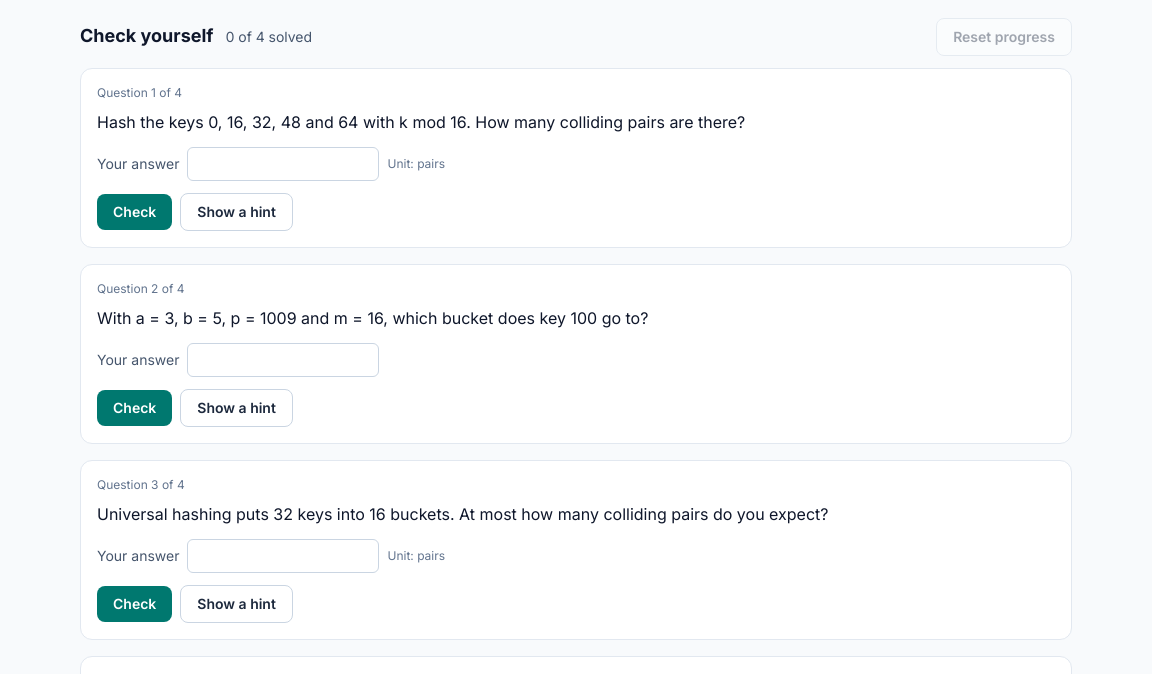
Test: designing hash functions lesson › checks a practice answer, wrong then right, with a hint
(page scrolled)
Type "5" into the field named "answer" at coordinates (284, 360), box [188, 343, 380, 377]
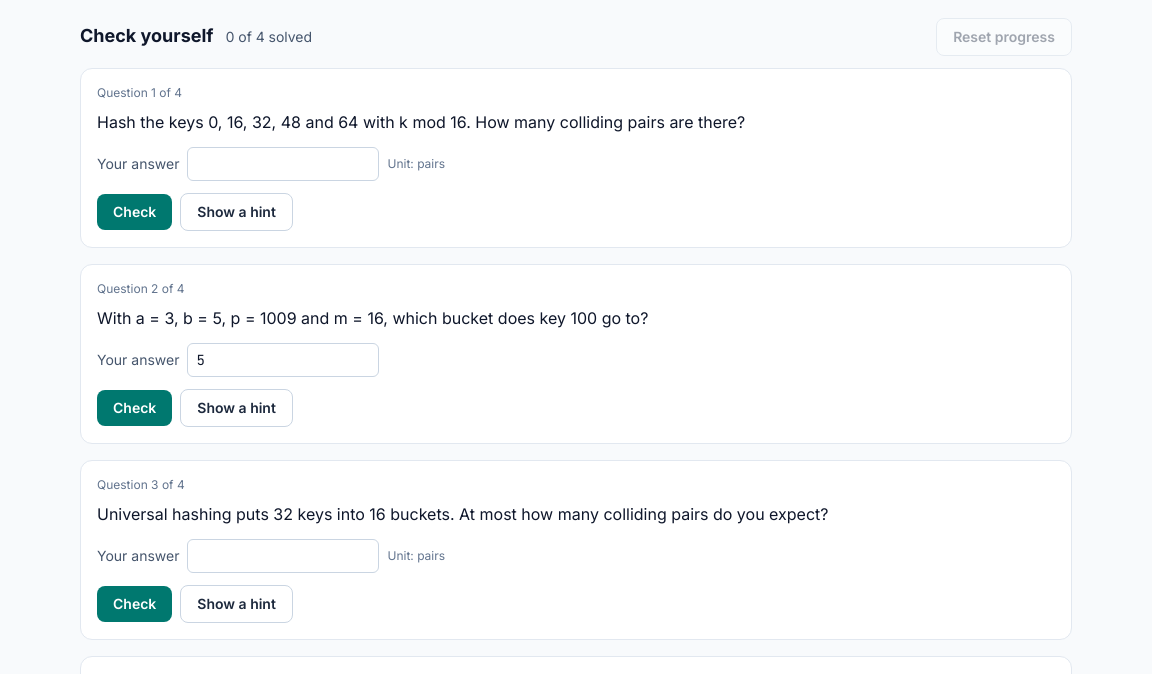
Submit the form "Your answer Check Show a hint", box [97, 343, 380, 427]
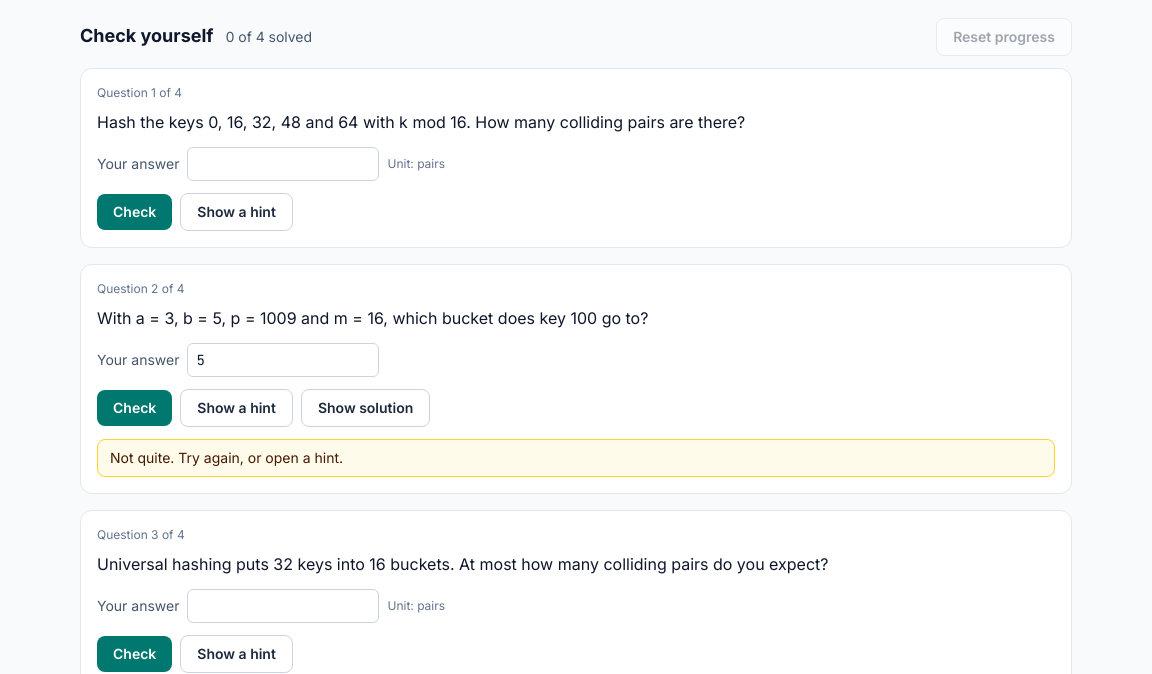
Now the list item that starts with "Question 2 of 4" shows "Not quite", box [110, 449, 343, 466]
Click the button "Show a hint" below "Question 2 of 4" at coordinates (237, 408), box [180, 389, 293, 427]
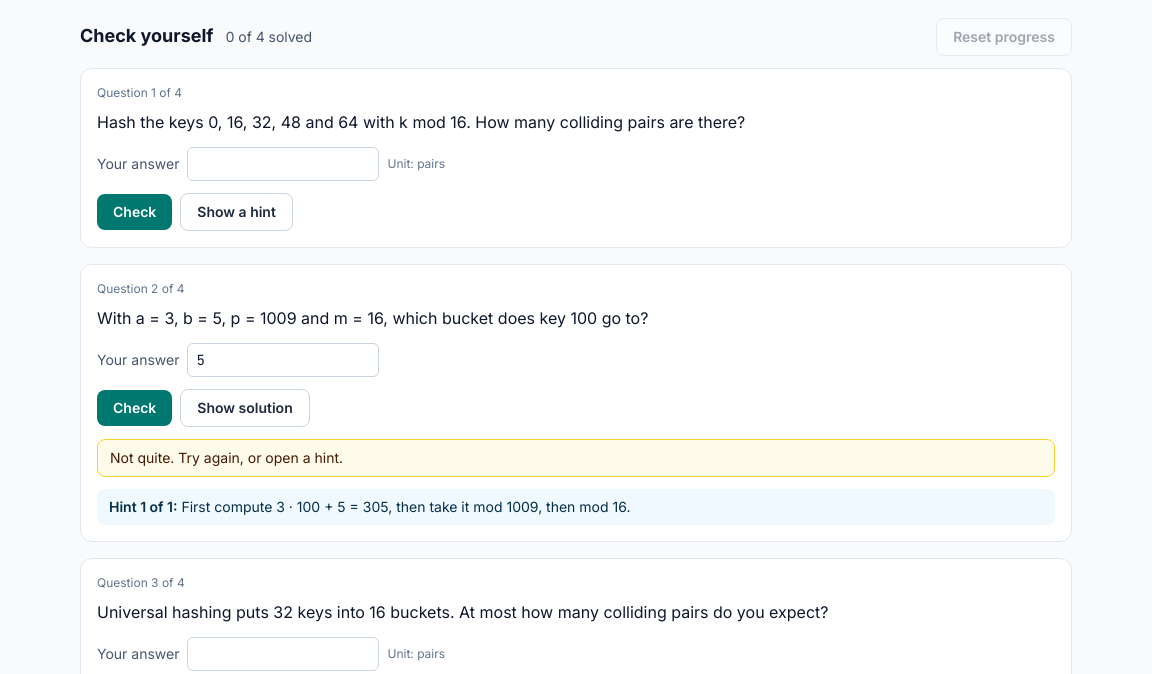
Now the list item that starts with "Question 2 of 4" shows "First compute 3 · 100 + 5 = 305, then take it mod 1009, then mod 16.", box [178, 498, 630, 515]
Replace the text in the field named "answer" with "1" at coordinates (284, 360), box [188, 343, 380, 377]
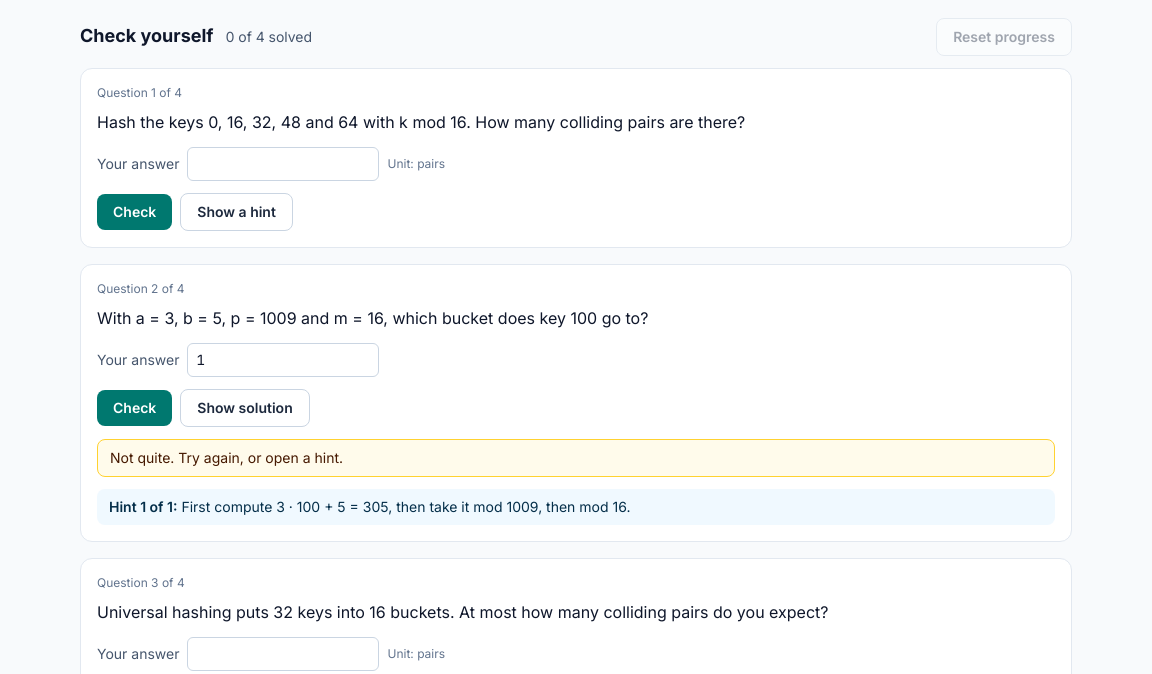
Submit the form "Your answer Check Show solution", box [97, 343, 380, 427]
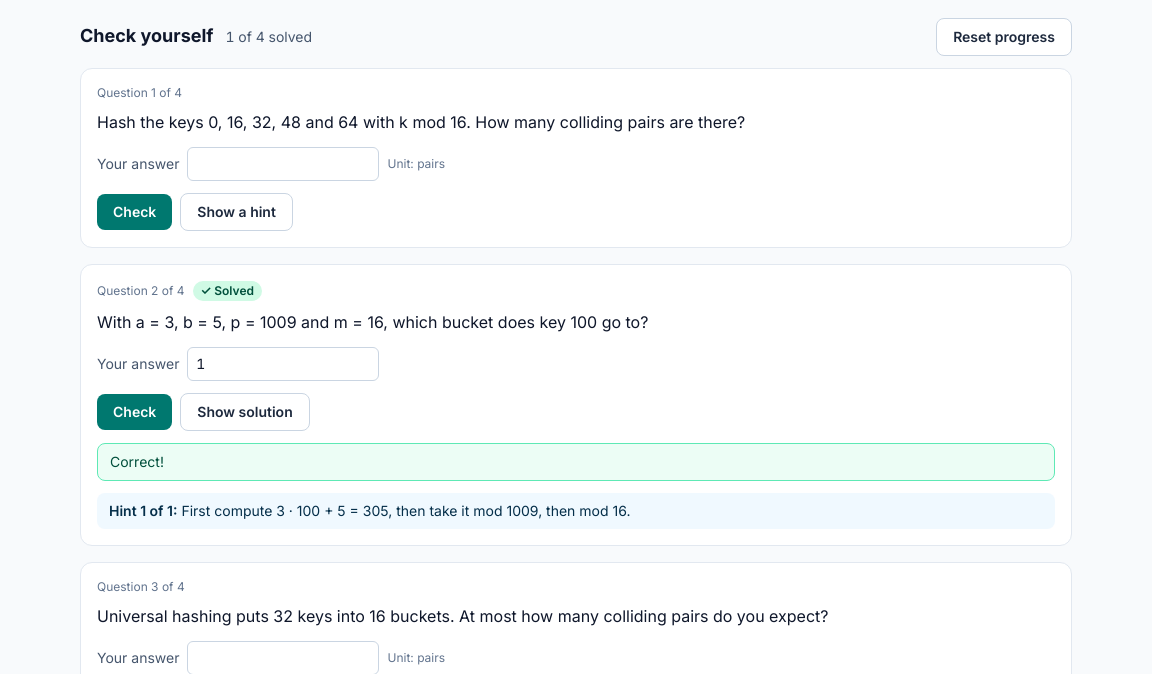
Now the list item that starts with "Question 2 of 4" shows "Correct!", box [110, 453, 164, 470]
